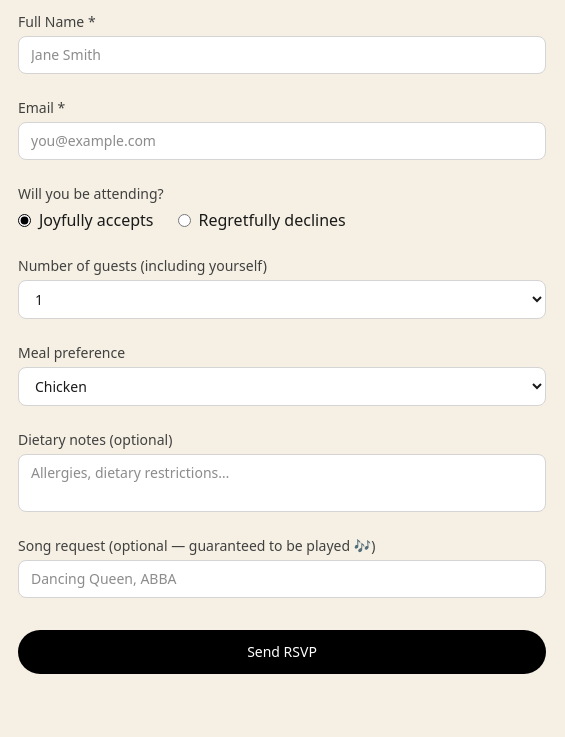
Test: RSVPPage › shows validation errors on submit with empty form
(page scrolled)
Click the button "Send RSVP" at (282, 652), box x1=18 y1=630 x2=546 y2=674
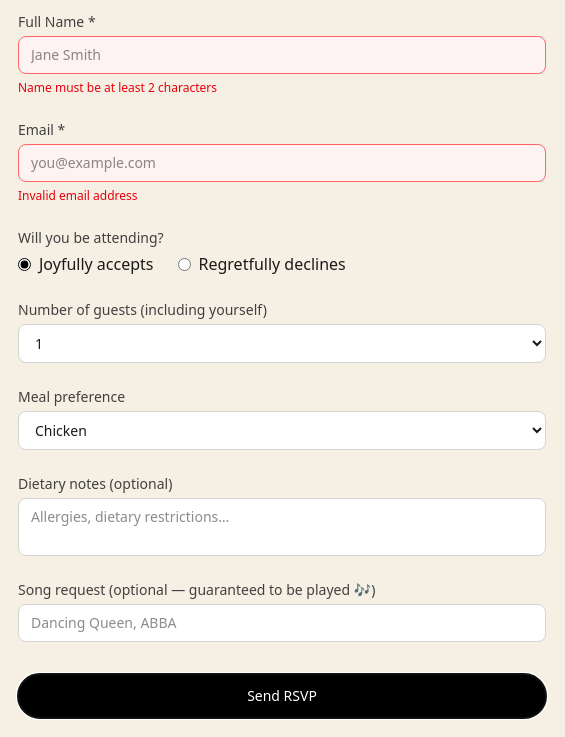
Result: the text "Name must be at least 2 characters" is shown at x1=18 y1=79 x2=217 y2=96
